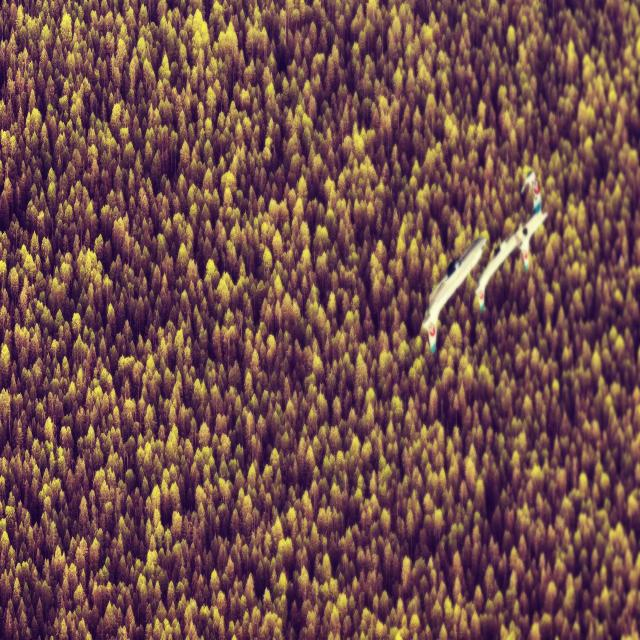airplane: (474, 170, 547, 310), (420, 234, 487, 354)
